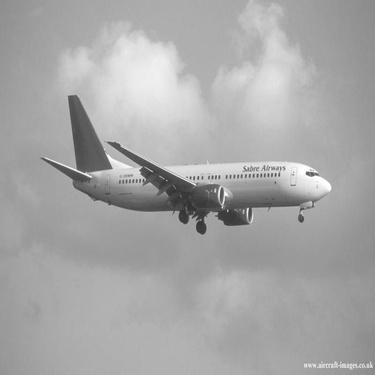airplane: (28, 72, 339, 247)
